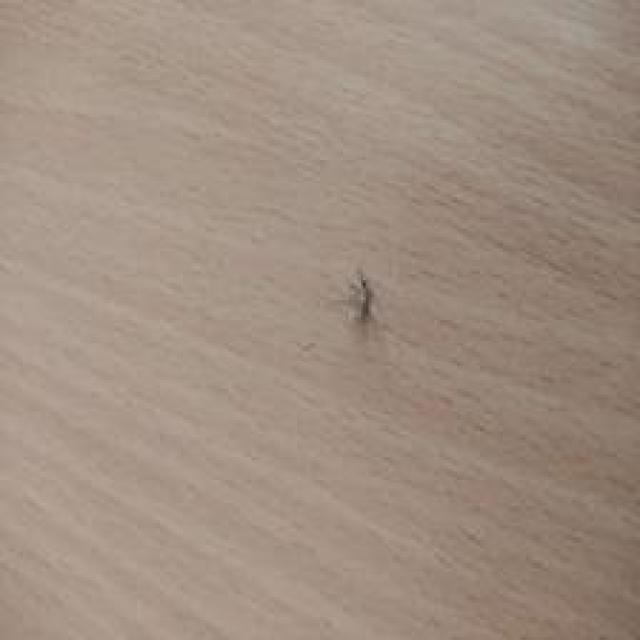Culex: (346, 268, 377, 326)
